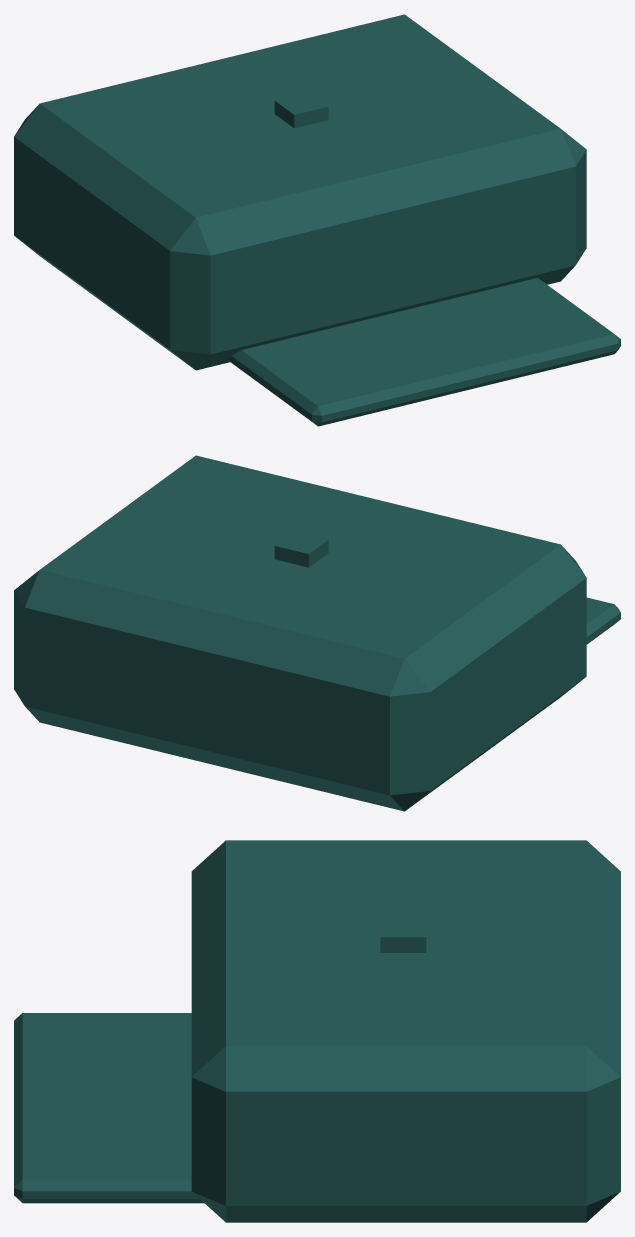
File: headwear-ballcap.high.0ce5aa3e.glb
The picture shows the model from 3 angles, top to bottom: view 1: azimuth 30°, elevation 25°; view 2: azimuth 150°, elevation 25°; view 3: azimuth 270°, elevation 25°; orthographic projection. The views are drawn at different scales.
Visible parts, largest first — view 1: headwear-ballcap; view 2: headwear-ballcap; view 3: headwear-ballcap.
Part boxes in pixels (x1=…): headwear-ballcap: x1=14, y1=14, x2=620, y2=426; headwear-ballcap: x1=14, y1=455, x2=620, y2=811; headwear-ballcap: x1=14, y1=840, x2=620, y2=1222.
Size of the model in its own units: 0.9701 by 0.37 by 1.06.
